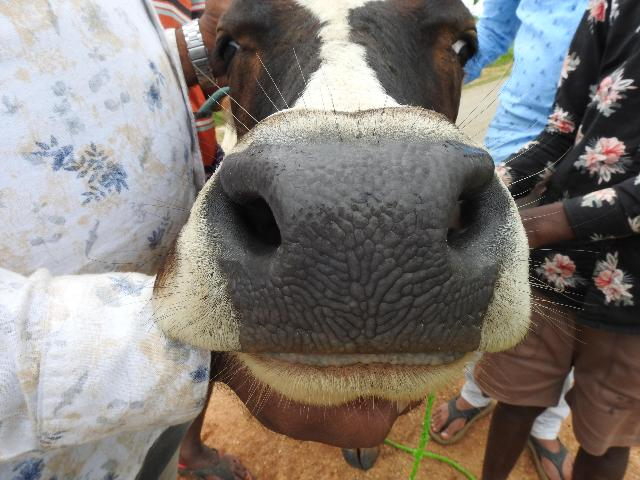Muzzle: (256, 139, 466, 350)
